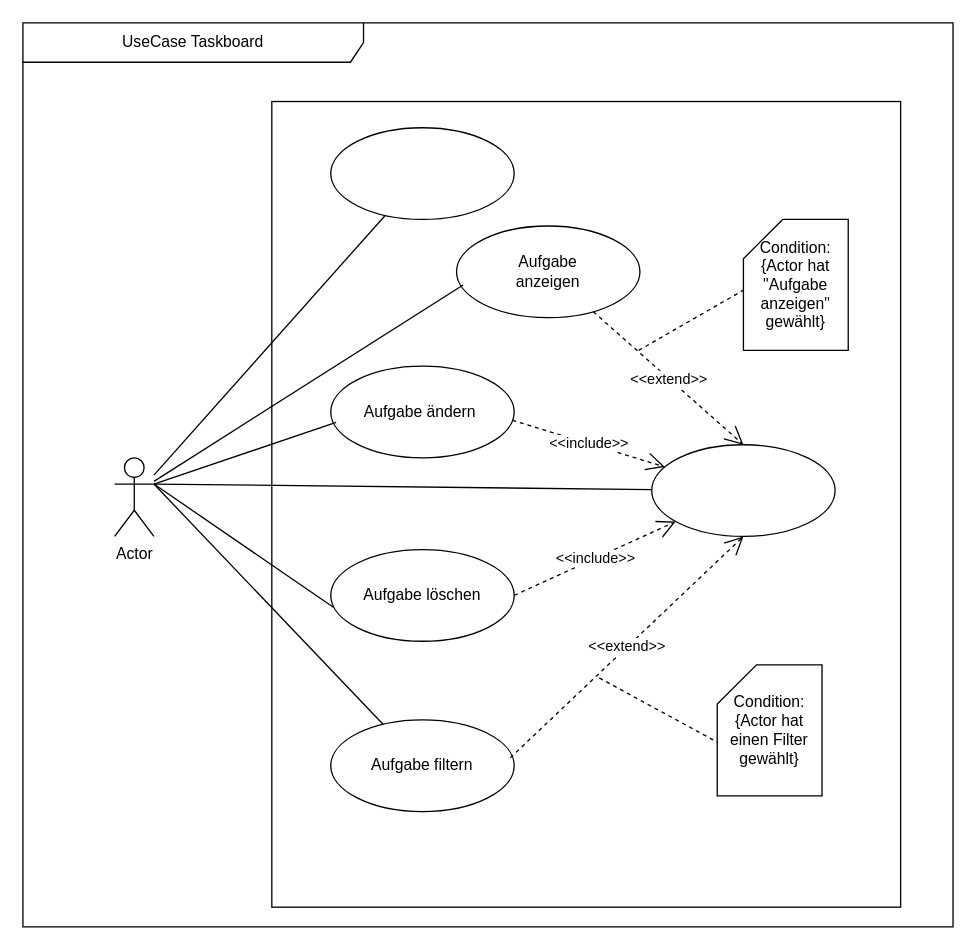
The diagram is 976 pixels wide and 950 high, and some of its shapes have lost their labels. Each missing label, with the box of its shape:
Aufgabe erstellen: (329, 126, 514, 219)
Aufgabenliste anzeigen: (650, 443, 835, 536)
